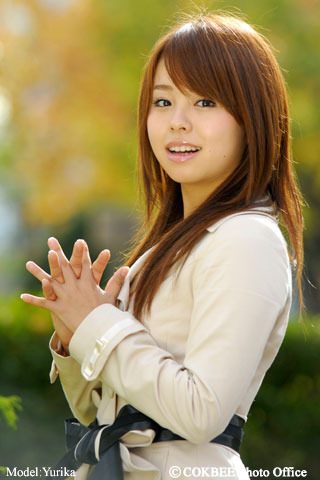face: (145, 53, 245, 186)
hand: (18, 236, 129, 347)
